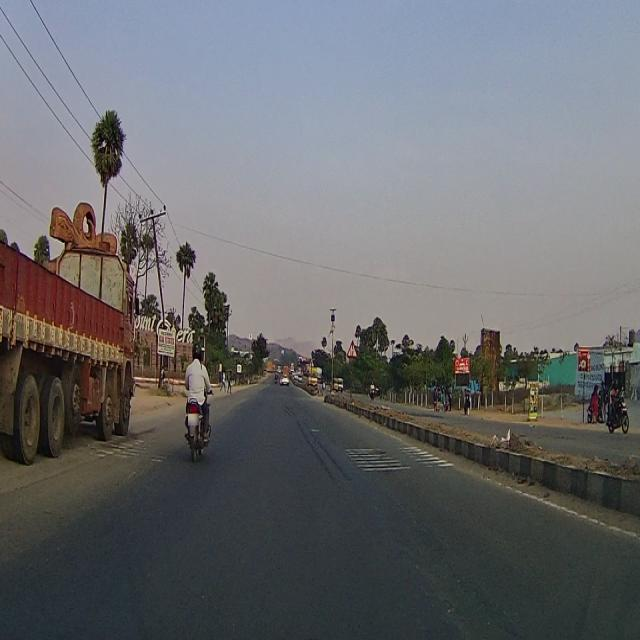gap-in-median: (347, 340, 357, 357)
